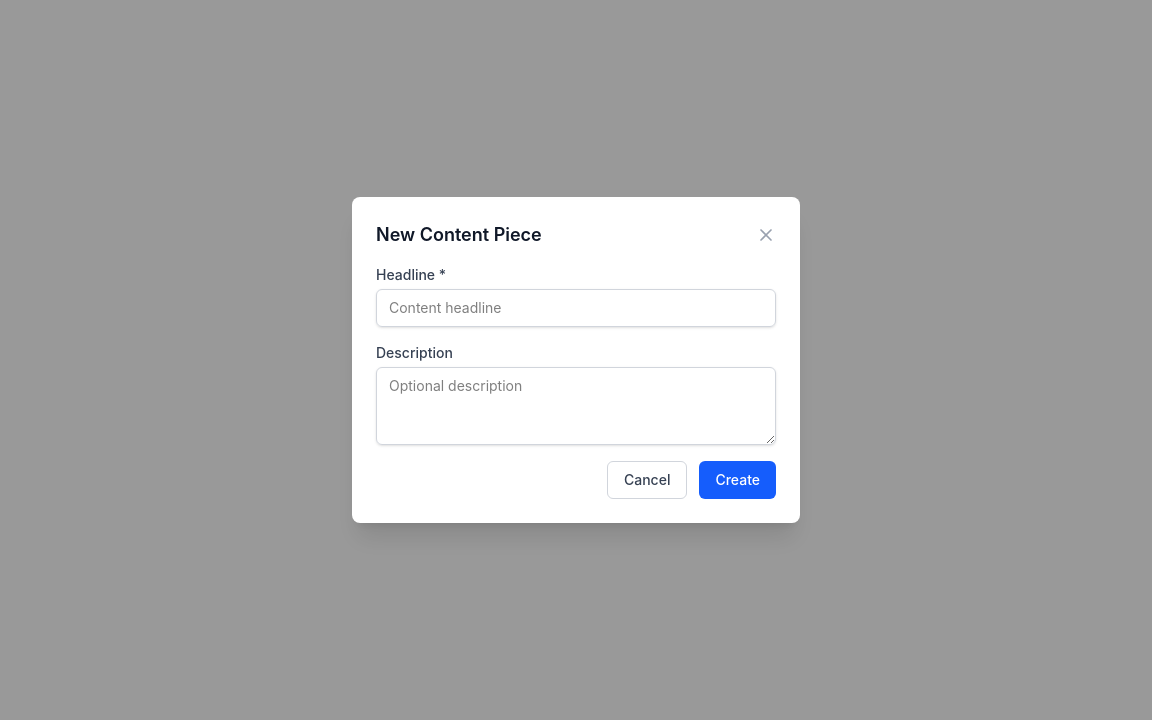
it: CreateContentModal › shows validation error when headline is empty on submit
This screenshot has width=1152, height=720.
Click the button "Create" at (738, 480), box [699,461,776,499]
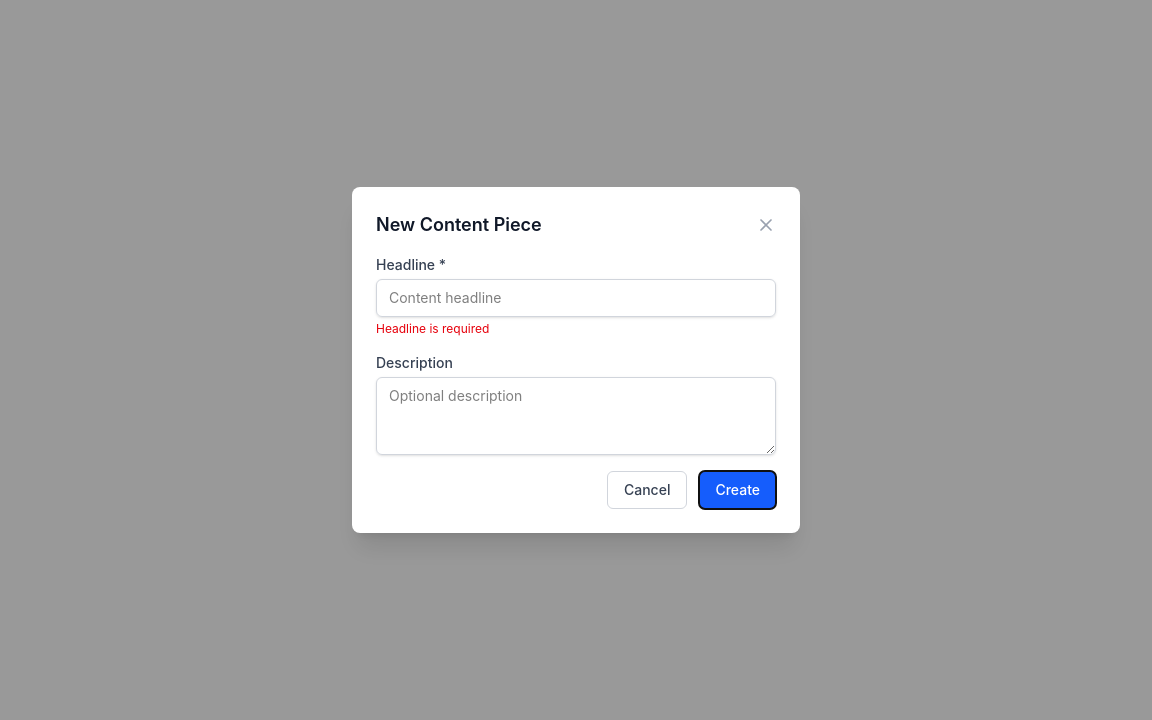
Check: the text "Headline is required" is shown, box [376,321,489,336]
